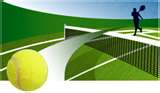tennis ball: (5, 49, 49, 92)
